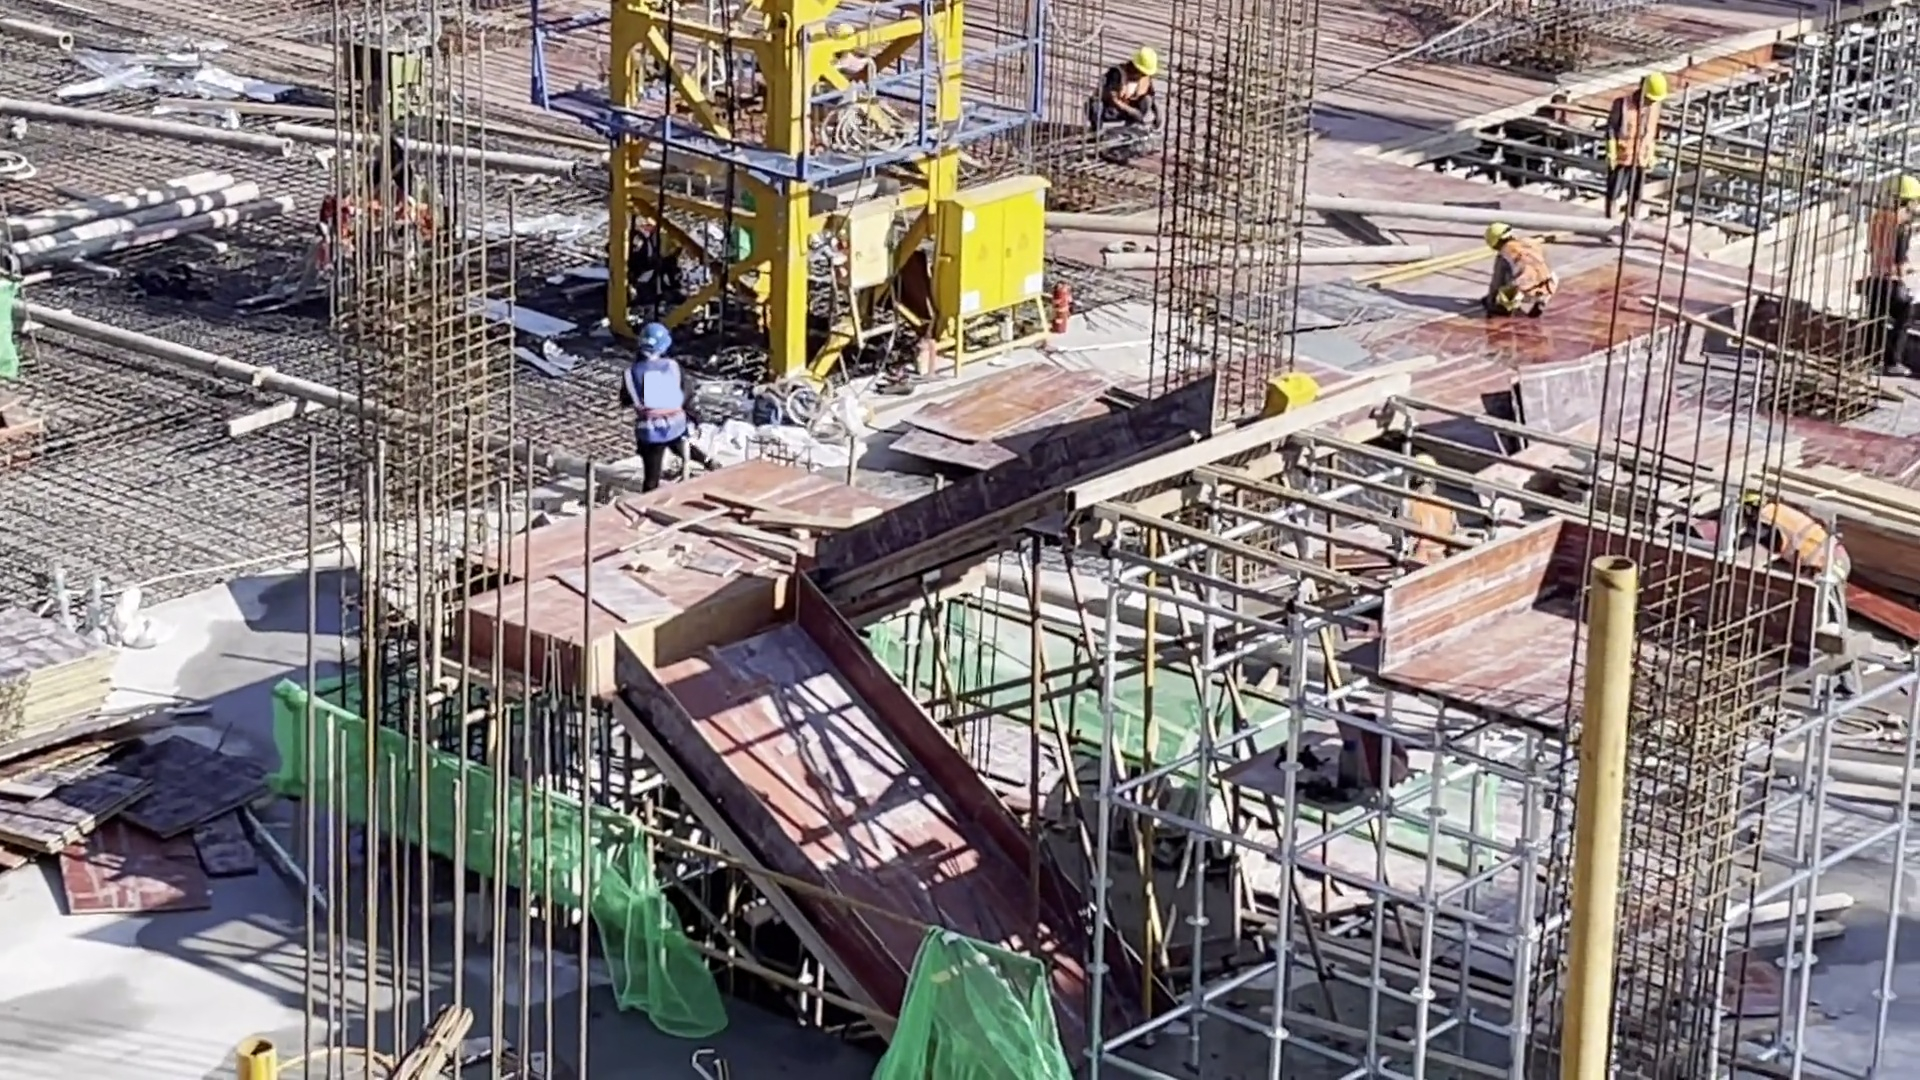helmet: (1636, 68, 1675, 105), (641, 324, 674, 362), (1488, 221, 1521, 257), (1129, 44, 1157, 78), (1881, 176, 1920, 199)
person: (622, 321, 715, 494), (1735, 495, 1855, 615), (1604, 66, 1674, 214), (1874, 177, 1920, 381), (1088, 49, 1165, 150), (1484, 218, 1560, 317), (1396, 452, 1462, 567)
vest: (628, 363, 692, 453), (1760, 501, 1833, 569), (1608, 102, 1666, 184), (1500, 242, 1550, 301)
